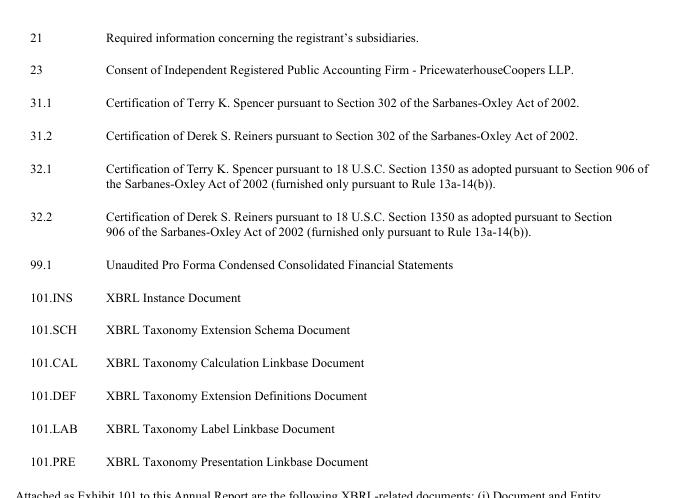table: (29, 29, 647, 467)
table column: (90, 29, 647, 467), (29, 29, 90, 467)
table row: (29, 151, 647, 199), (29, 199, 647, 247), (29, 52, 647, 85), (29, 85, 647, 118), (29, 118, 647, 151), (29, 279, 647, 312), (29, 312, 647, 345), (29, 345, 647, 378), (29, 378, 647, 411), (29, 411, 647, 444), (29, 247, 647, 279), (29, 29, 647, 52), (29, 444, 647, 467)
